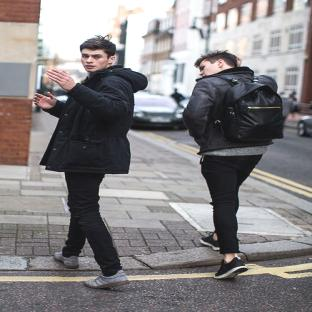Human: (34, 36, 147, 288), (183, 51, 283, 278)
